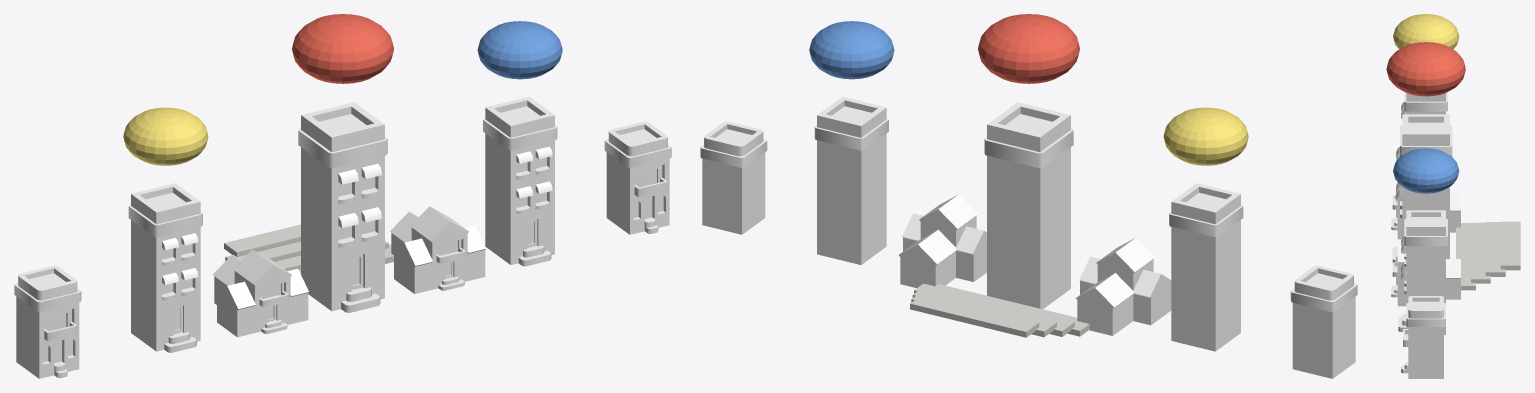
Rendered from academy_assembled.glb.
The picture shows the model from 3 angles, left to right: view 1: azimuth 30°, elevation 25°; view 2: azimuth 150°, elevation 25°; view 3: azimuth 270°, elevation 25°; orthographic projection. The views are drawn at different scales.
Parts seen in each view (by area): view 1: center_building-sample-tower-a, left_building-sample-tower-a, right_building-sample-tower-a, far_right_building-sample-tower-b, far_left_building-sample-tower-b, wing_left_building-sample-house-c, wing_right_building-sample-house-c, Dome_SliferRed, Dome_RaYellow, Dome_ObeliskBlue, Step_3, Step_2; view 2: center_building-sample-tower-a, left_building-sample-tower-a, right_building-sample-tower-a, far_right_building-sample-tower-b, far_left_building-sample-tower-b, wing_left_building-sample-house-c, wing_right_building-sample-house-c, Dome_SliferRed, Dome_RaYellow, Dome_ObeliskBlue, Step_3, Step_1 (+2 smaller); view 3: right_building-sample-tower-a, Dome_SliferRed, center_building-sample-tower-a, far_right_building-sample-tower-b, Dome_ObeliskBlue, Dome_RaYellow, wing_right_building-sample-house-c, Step_3, Step_1, left_building-sample-tower-a, Step_2, Step_0 (+1 smaller).
Boxes of the visible parts, left/top/right/bottom form: center_building-sample-tower-a: left=298, top=102, right=387, bottom=312; left_building-sample-tower-a: left=128, top=183, right=202, bottom=352; right_building-sample-tower-a: left=483, top=96, right=557, bottom=266; far_right_building-sample-tower-b: left=604, top=121, right=671, bottom=234; far_left_building-sample-tower-b: left=14, top=265, right=81, bottom=378; wing_left_building-sample-house-c: left=212, top=249, right=308, bottom=337; wing_right_building-sample-house-c: left=390, top=206, right=486, bottom=293; Dome_SliferRed: left=292, top=14, right=393, bottom=83; Dome_RaYellow: left=123, top=107, right=208, bottom=165; Dome_ObeliskBlue: left=477, top=21, right=562, bottom=79; Step_3: left=224, top=224, right=300, bottom=256; Step_2: left=225, top=241, right=300, bottom=261; center_building-sample-tower-a: left=984, top=102, right=1073, bottom=309; left_building-sample-tower-a: left=1169, top=183, right=1243, bottom=351; right_building-sample-tower-a: left=814, top=96, right=888, bottom=264; far_right_building-sample-tower-b: left=700, top=121, right=767, bottom=234; far_left_building-sample-tower-b: left=1290, top=265, right=1357, bottom=378; wing_left_building-sample-house-c: left=1076, top=237, right=1171, bottom=335; wing_right_building-sample-house-c: left=899, top=194, right=986, bottom=288; Dome_SliferRed: left=978, top=14, right=1079, bottom=83; Dome_RaYellow: left=1163, top=107, right=1248, bottom=165; Dome_ObeliskBlue: left=809, top=21, right=894, bottom=79; Step_3: left=910, top=294, right=1039, bottom=337; Step_1: left=912, top=285, right=1074, bottom=336; right_building-sample-tower-a: left=1398, top=210, right=1447, bottom=334; Dome_SliferRed: left=1386, top=42, right=1465, bottom=96; center_building-sample-tower-a: left=1392, top=114, right=1452, bottom=262; far_right_building-sample-tower-b: left=1401, top=296, right=1445, bottom=378; Dome_ObeliskBlue: left=1393, top=148, right=1459, bottom=193; Dome_RaYellow: left=1393, top=14, right=1459, bottom=49; wing_right_building-sample-house-c: left=1391, top=243, right=1460, bottom=306; Step_3: left=1500, top=221, right=1520, bottom=270; Step_1: left=1471, top=222, right=1490, bottom=283; left_building-sample-tower-a: left=1401, top=92, right=1447, bottom=118; Step_2: left=1485, top=222, right=1505, bottom=276; Step_0: left=1456, top=223, right=1475, bottom=290.
Bounding box in the file's own units: 57.29 × 23.52 × 13.5.
